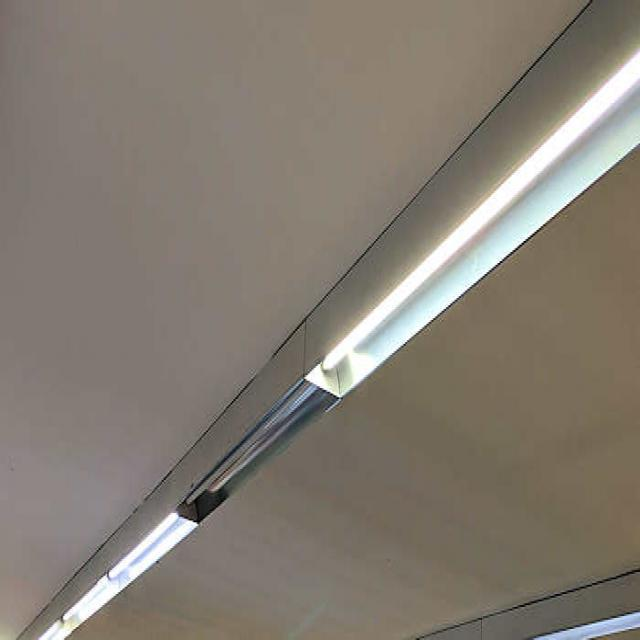Straight-Tube-Fluorescent-Lamp: (312, 46, 640, 384), (182, 376, 332, 516), (107, 509, 187, 587), (59, 573, 117, 631)
